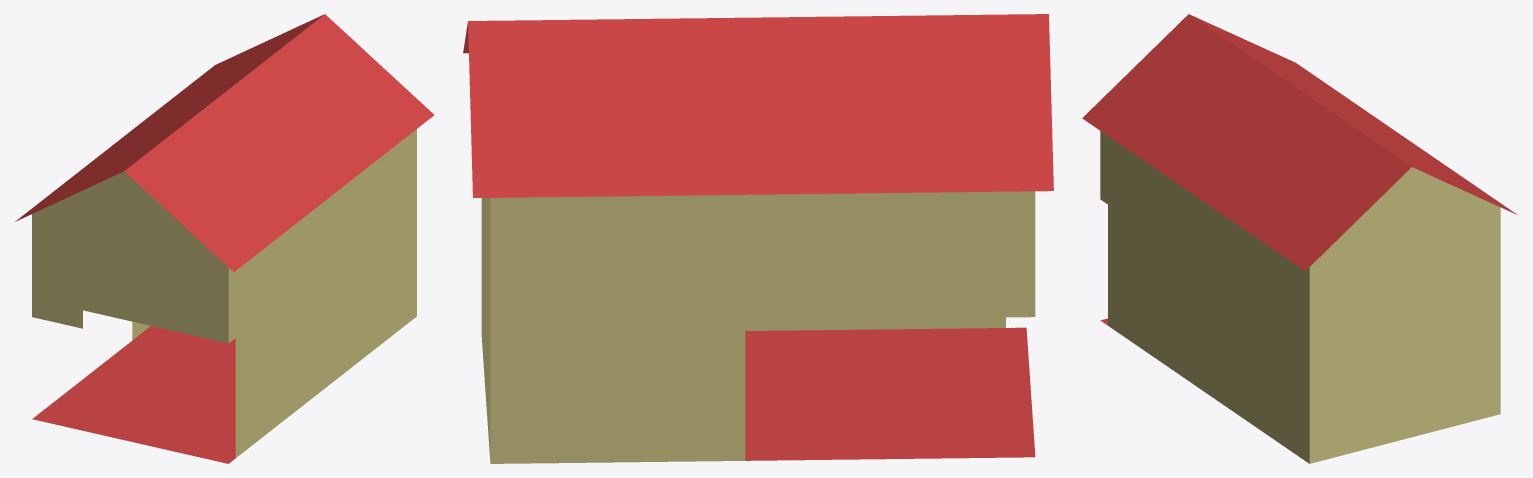
3 views of the same model, side by side, from view 1: azimuth 30°, elevation 25°; view 2: azimuth 150°, elevation 25°; view 3: azimuth 270°, elevation 25° (orthographic). The views are drawn at different scales.
Size of the model in its own units: 18.76 by 16.6 by 11.6.
